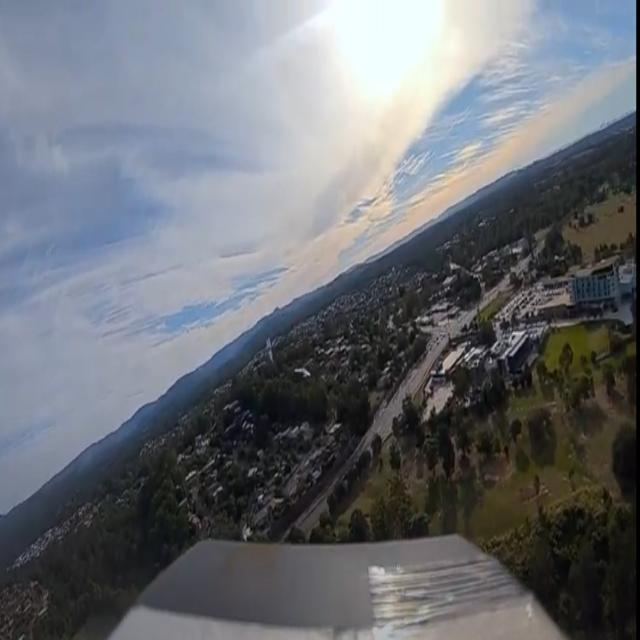iha: (293, 365, 310, 380)
